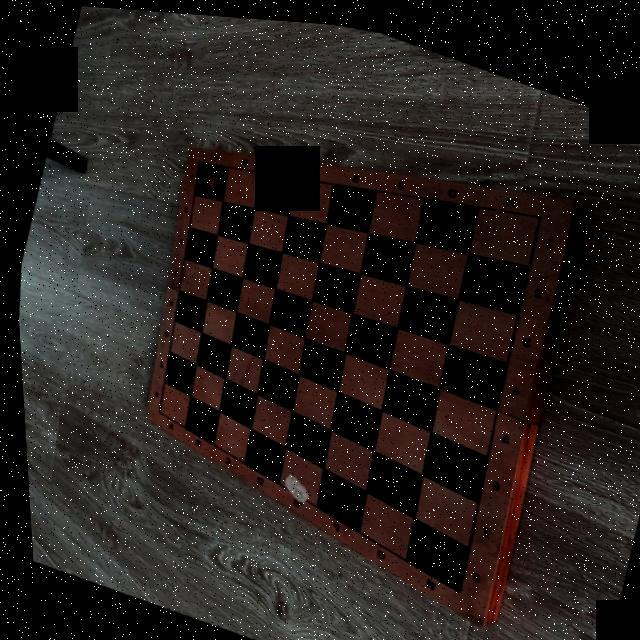chess-table-corners: (438, 572, 463, 596), (524, 200, 546, 216), (146, 402, 160, 416), (190, 154, 202, 164)
